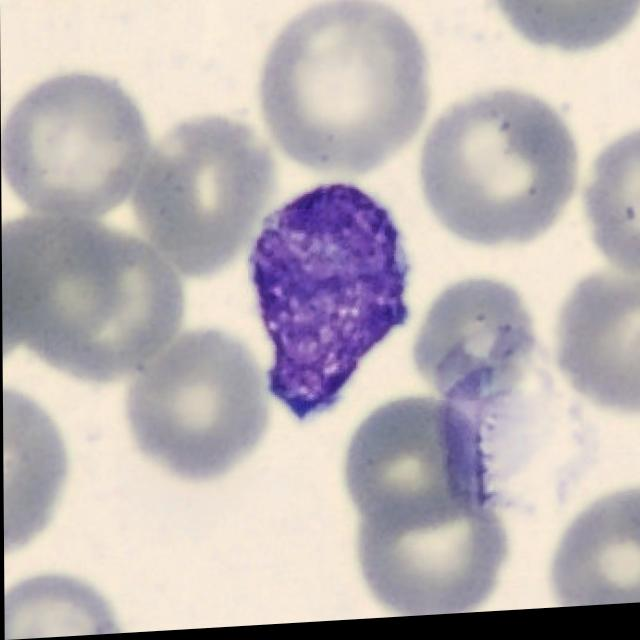Artefato: (431, 324, 595, 514)
Linfocito: (248, 186, 407, 422)
